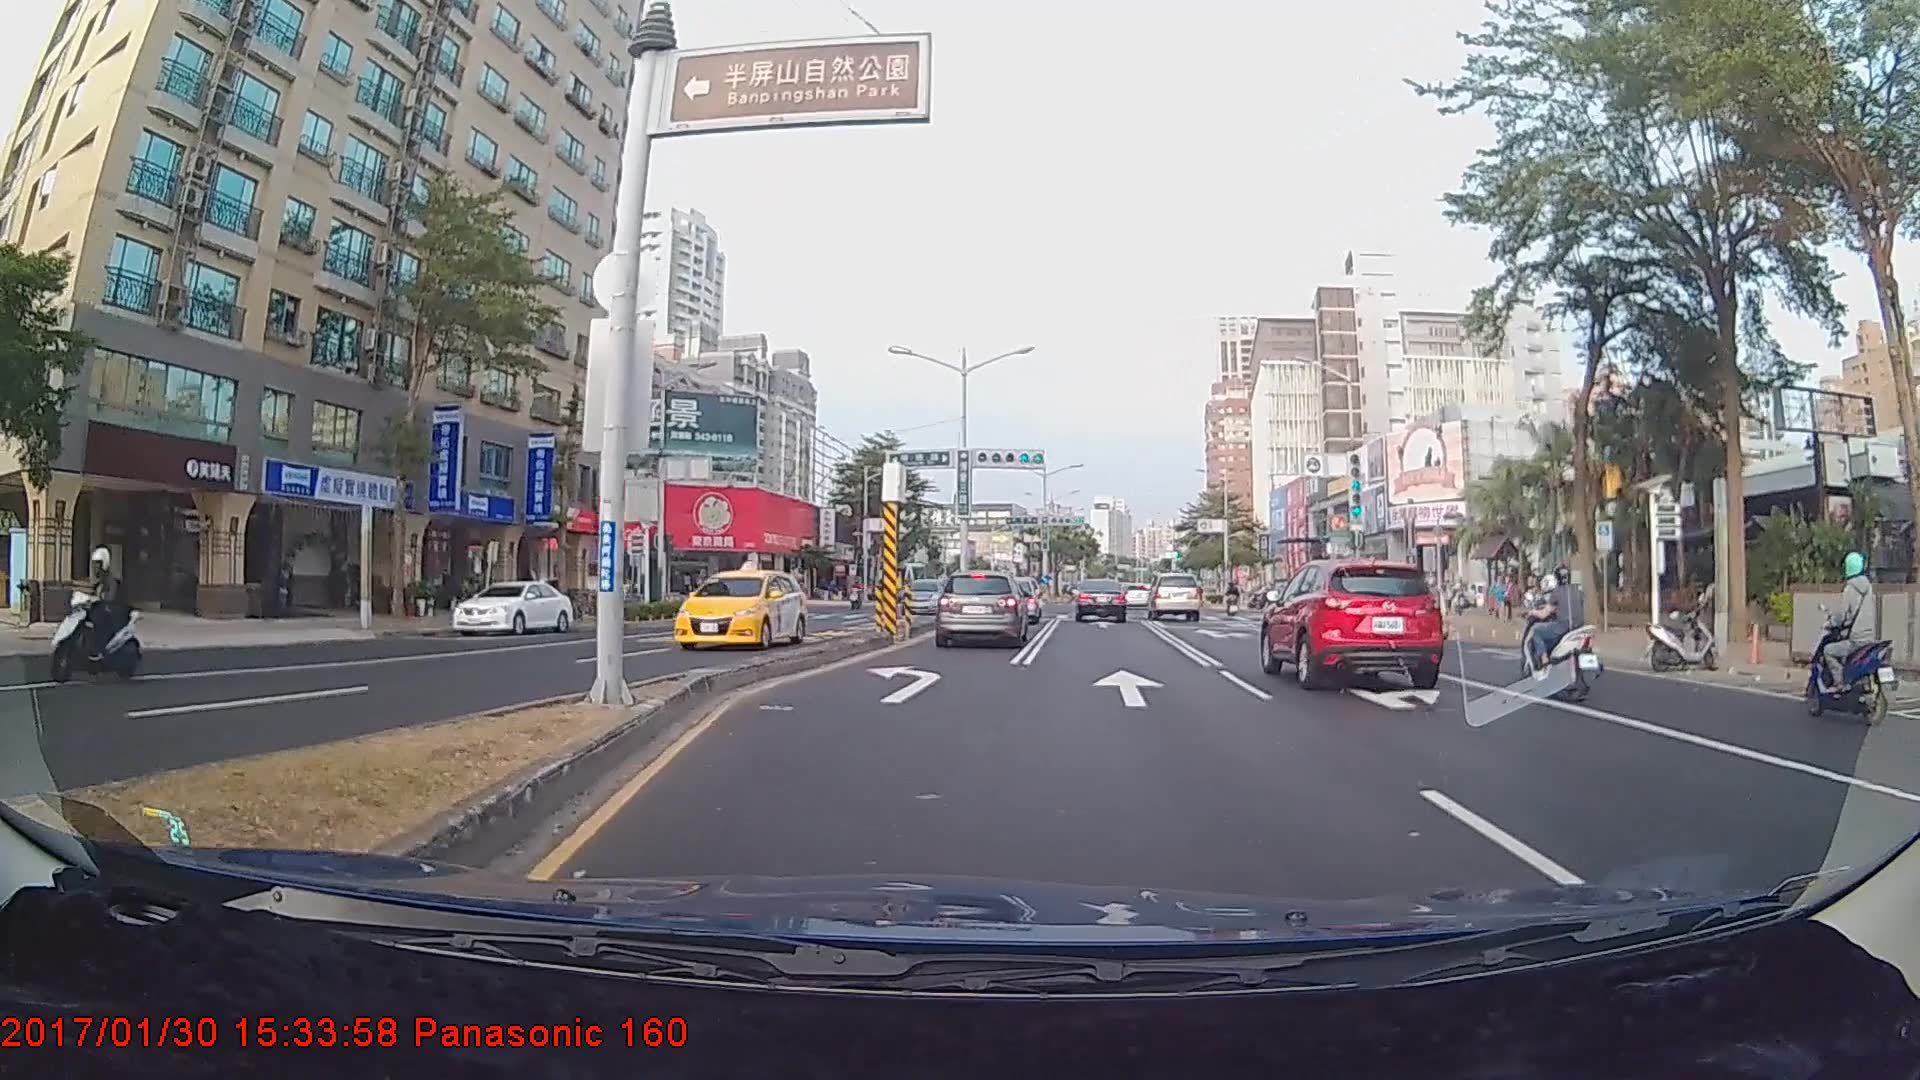rider: (1802, 550, 1903, 734), (47, 547, 148, 687), (1515, 563, 1606, 704)
vehicle: (1261, 554, 1443, 687), (675, 566, 808, 652), (934, 570, 1026, 648), (454, 581, 572, 640), (1146, 573, 1202, 622), (1072, 577, 1126, 623), (901, 579, 947, 614)
